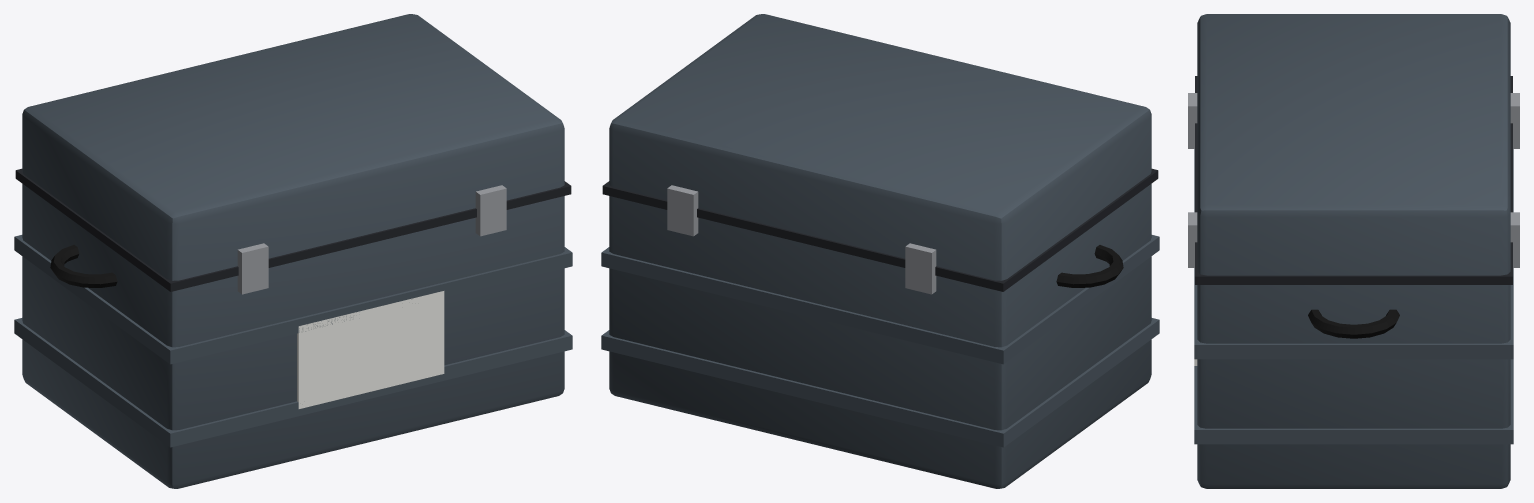
The model's file is SM_Contenedor_Rigido.fbx.
3 views of the same model, side by side, from view 1: azimuth 30°, elevation 25°; view 2: azimuth 150°, elevation 25°; view 3: azimuth 270°, elevation 25° (orthographic). The views are drawn at different scales.
Visible parts, largest first — view 1: SM_Contenedor_Rigido; view 2: SM_Contenedor_Rigido; view 3: SM_Contenedor_Rigido.
Part boxes in pixels (x1,y1,x2,y2): SM_Contenedor_Rigido: (14,14,572,488); SM_Contenedor_Rigido: (601,14,1159,488); SM_Contenedor_Rigido: (1188,14,1519,488).
Size of the model in its own units: 0.718 by 0.4 by 0.424.
